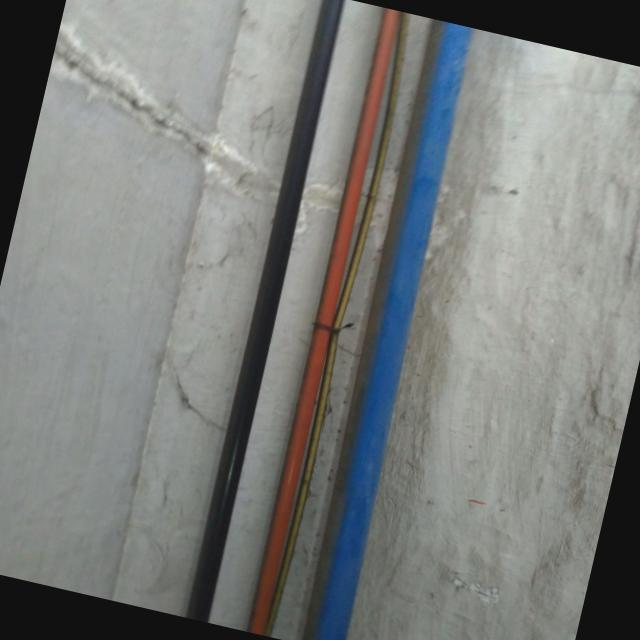gas: (287, 17, 485, 640), (236, 5, 418, 638), (174, 0, 350, 622)
